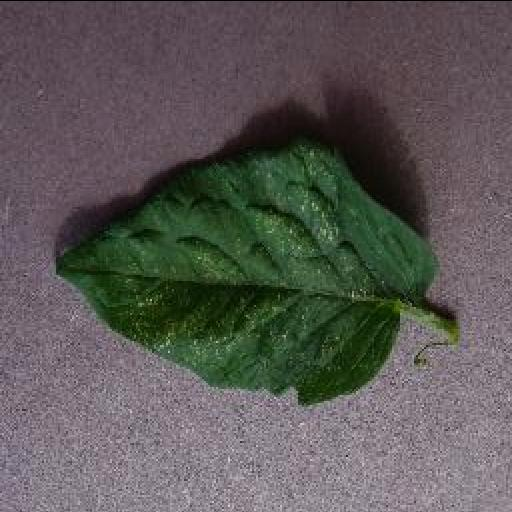disease_tomato: (50, 146, 438, 402)
